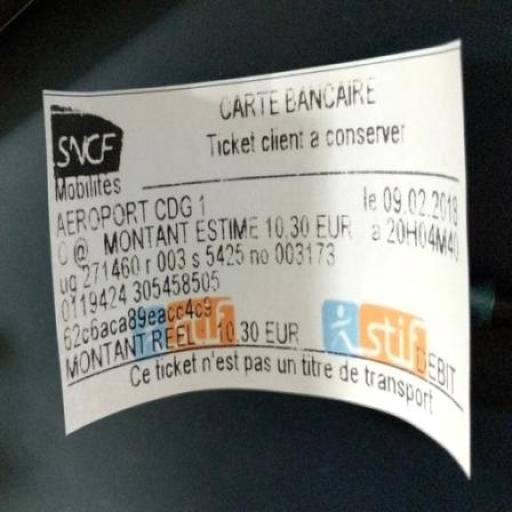paper: (19, 29, 510, 512)
